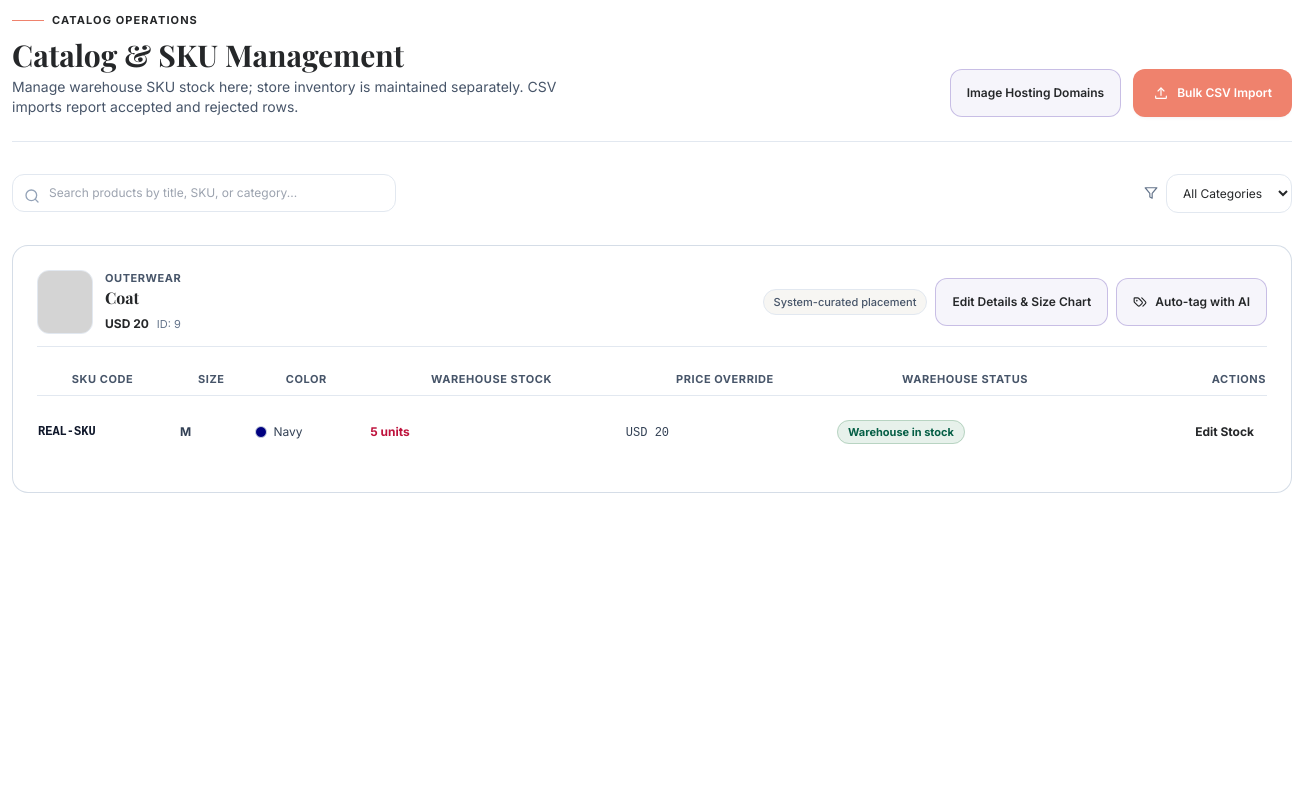
B03 catalog management › D9: auto-tag dry-run previews confidence and unresolved axes; apply writes for real
Click the button "Auto-tag with AI" at (1192, 302), box [1116,278,1267,326]
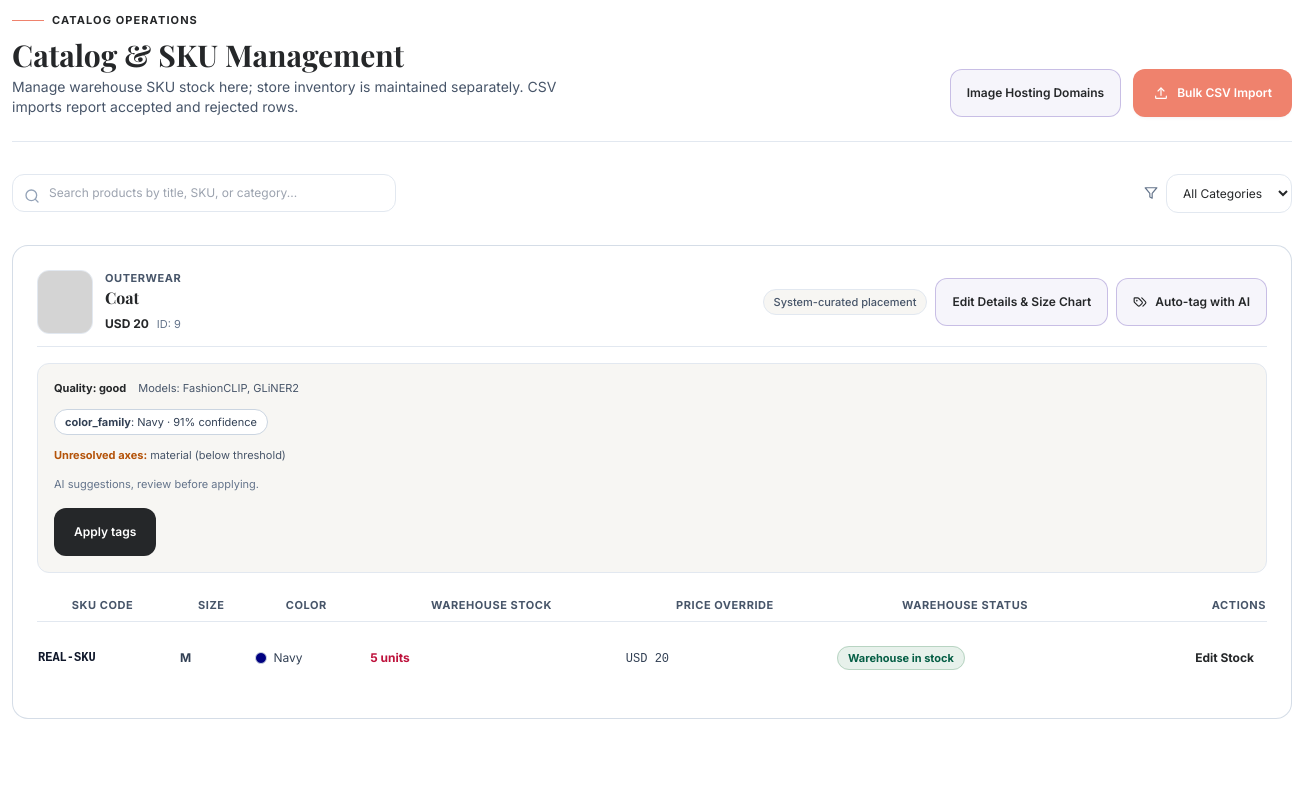
Expected: the list item "color_family: Navy · 91% confidence" is shown, [54,408,268,435]
Expected: the text "Unresolved axes: material (below threshold)" is shown, [54,448,286,462]
Click the button "Apply tags" at (105, 532), box [54,508,156,556]
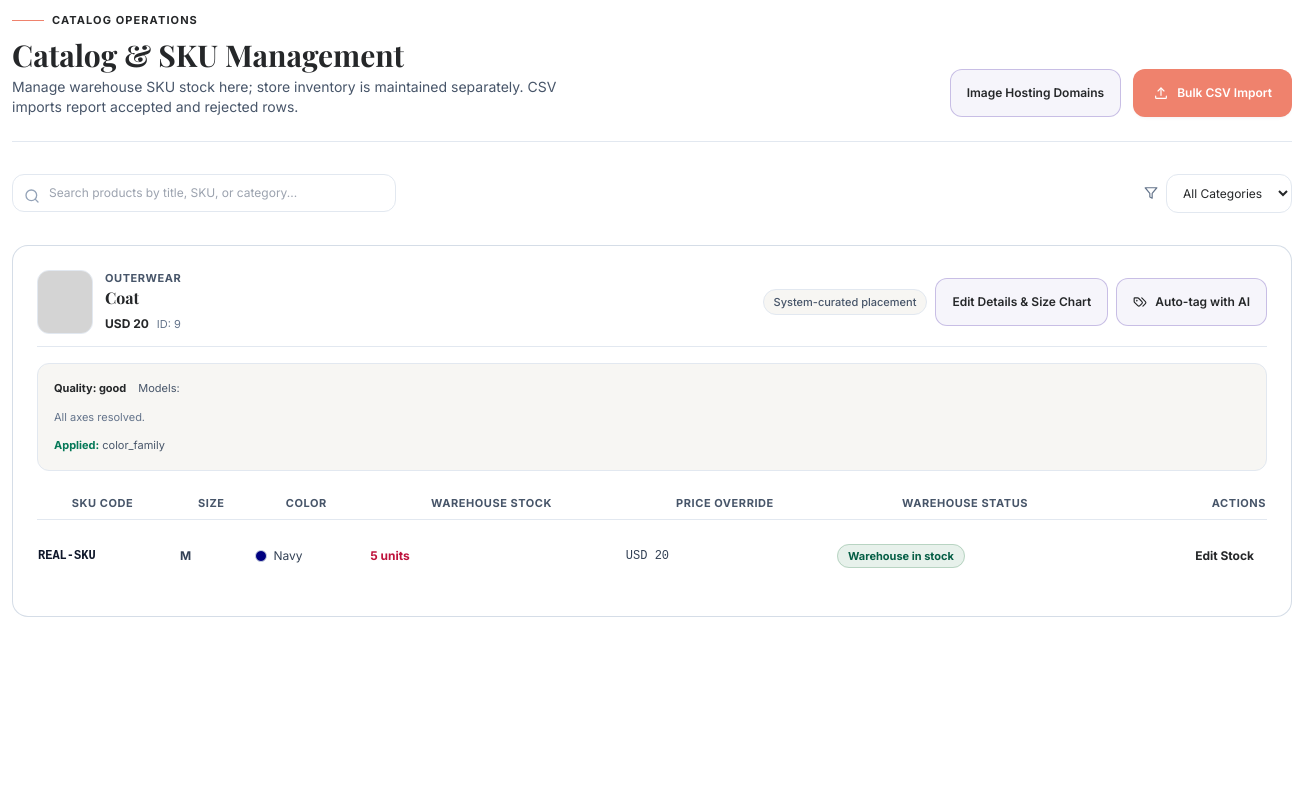
Expected: the text "Applied:" is shown, [54,438,99,452]
